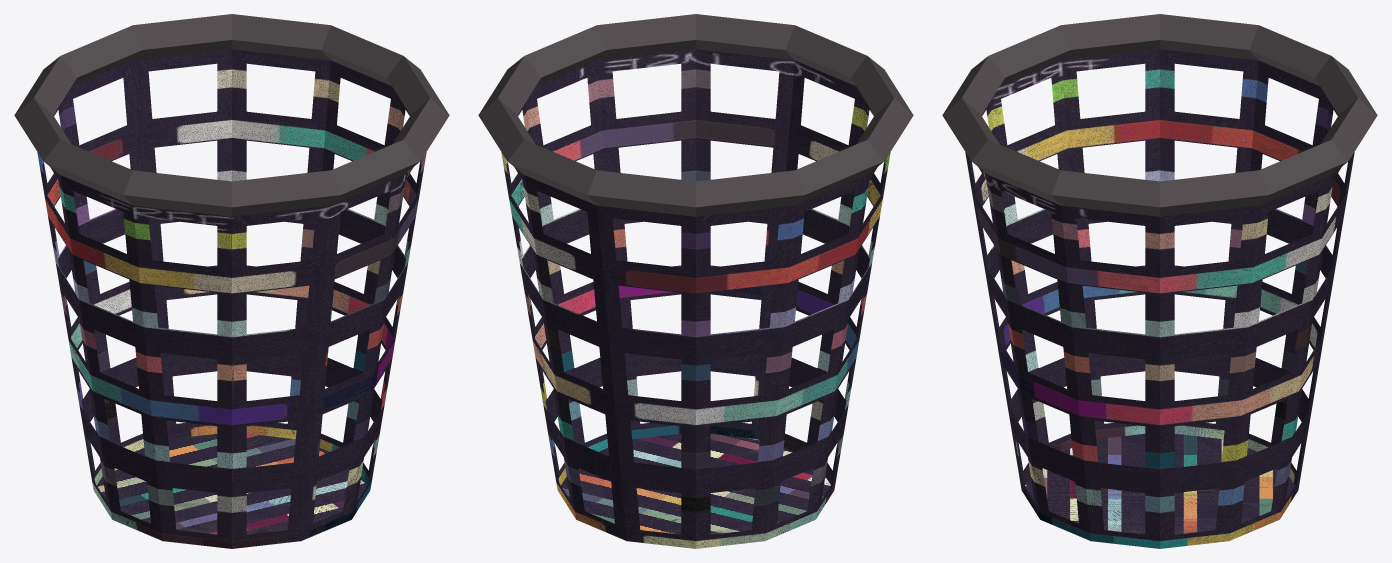
The model's file is vedro.fbx.
3 renders of one model, left to right at view 1: azimuth 30°, elevation 25°; view 2: azimuth 150°, elevation 25°; view 3: azimuth 270°, elevation 25°, orthographic.
Visible parts, largest first — view 1: Cylinder.021; view 2: Cylinder.021; view 3: Cylinder.021.
Part boxes in pixels (bbox=[...]): Cylinder.021: bbox=[14, 14, 449, 548]; Cylinder.021: bbox=[478, 14, 913, 548]; Cylinder.021: bbox=[942, 14, 1377, 548].
Size of the model in its own units: 76.27 by 75.93 by 76.27.
